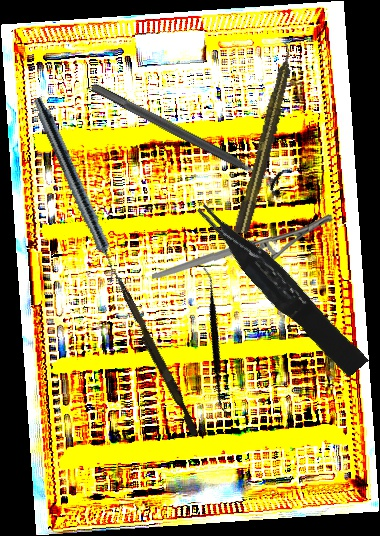Fixation Ring: (84, 71, 295, 200)
Handpiece: (27, 95, 125, 284), (231, 42, 301, 236)
Needle Holder: (152, 209, 334, 283)
Pusher: (106, 269, 203, 437)
Spatula Surgical: (146, 266, 287, 418)
Tissue Forceps: (193, 189, 369, 385)
